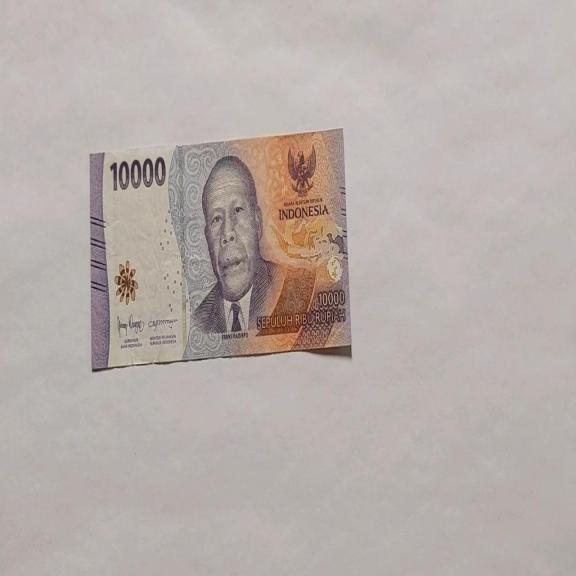Kertas: (89, 127, 352, 372)
